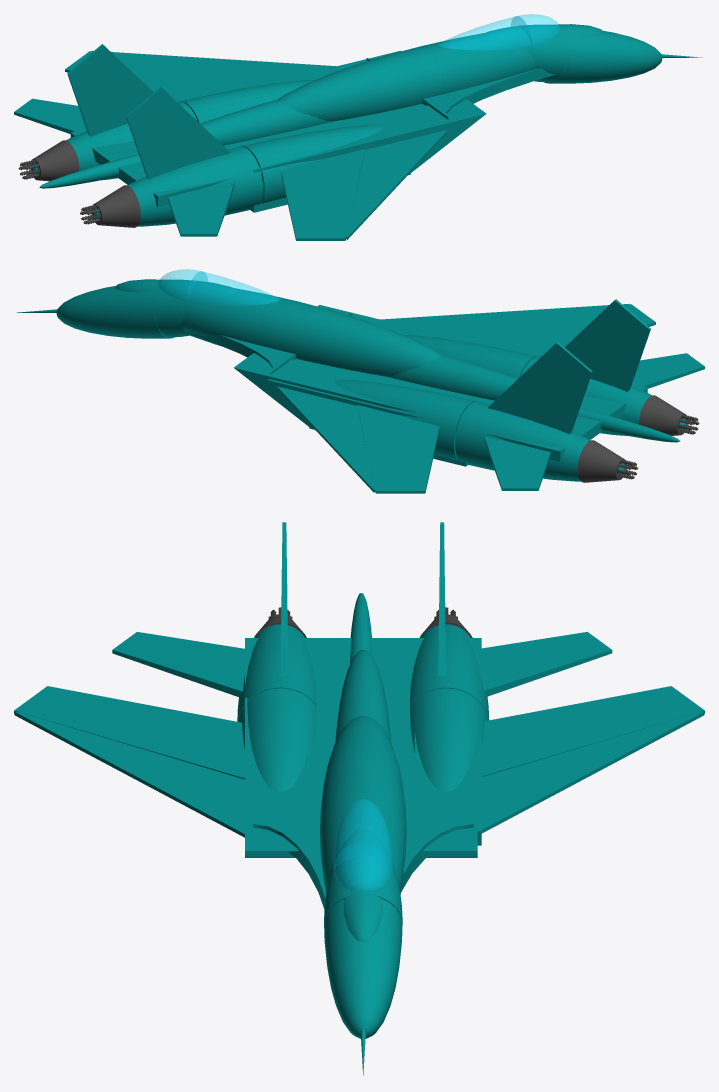
The model's file is 战斗机1.gltf.
The picture shows the model from 3 angles, top to bottom: view 1: azimuth 30°, elevation 25°; view 2: azimuth 150°, elevation 25°; view 3: azimuth 270°, elevation 25°; orthographic projection. The views are drawn at different scales.
Visible parts, largest first — view 1: hemisphere (×12), truncatedPyramid4 (×6), wedge (×3), box (×2), truncatedCone (×2), circleWedge; view 2: hemisphere (×12), truncatedPyramid4 (×6), wedge (×4), box (×3), truncatedCone (×2), circleWedge; view 3: hemisphere (×12), truncatedPyramid4 (×6), wedge (×4), box (×3), circleWedge (×2).
Boxes of the visible parts, x1,y1,x2,y2 form: hemisphere (×12): (31,14,662,226); truncatedPyramid4 (×6): (14,44,364,240); wedge (×3): (92,50,486,239); box (×2): (70,104,451,212); truncatedCone (×2): (30,140,140,227); circleWedge: (422,68,554,119); hemisphere (×12): (56,269,686,481); truncatedPyramid4 (×6): (357,299,704,493); wedge (×4): (234,304,628,492); box (×3): (267,323,647,466); truncatedCone (×2): (577,395,687,482); circleWedge: (181,331,296,374); hemisphere (×12): (237,593,489,1038); truncatedPyramid4 (×6): (14,522,704,779); wedge (×4): (14,711,704,856); box (×3): (245,638,481,857); circleWedge (×2): (253,824,473,908).
Size of the model in its own units: 26.37 by 5.26 by 17.52.
